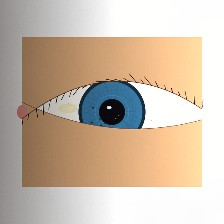pinguecula_lesion: (48, 93, 87, 124)
